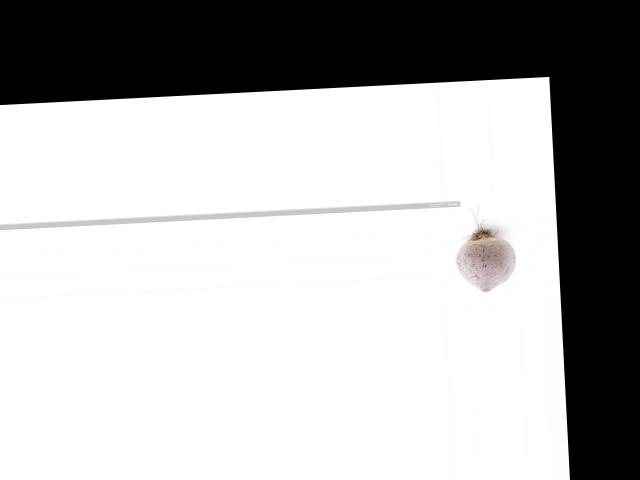beet: (452, 201, 517, 294)
